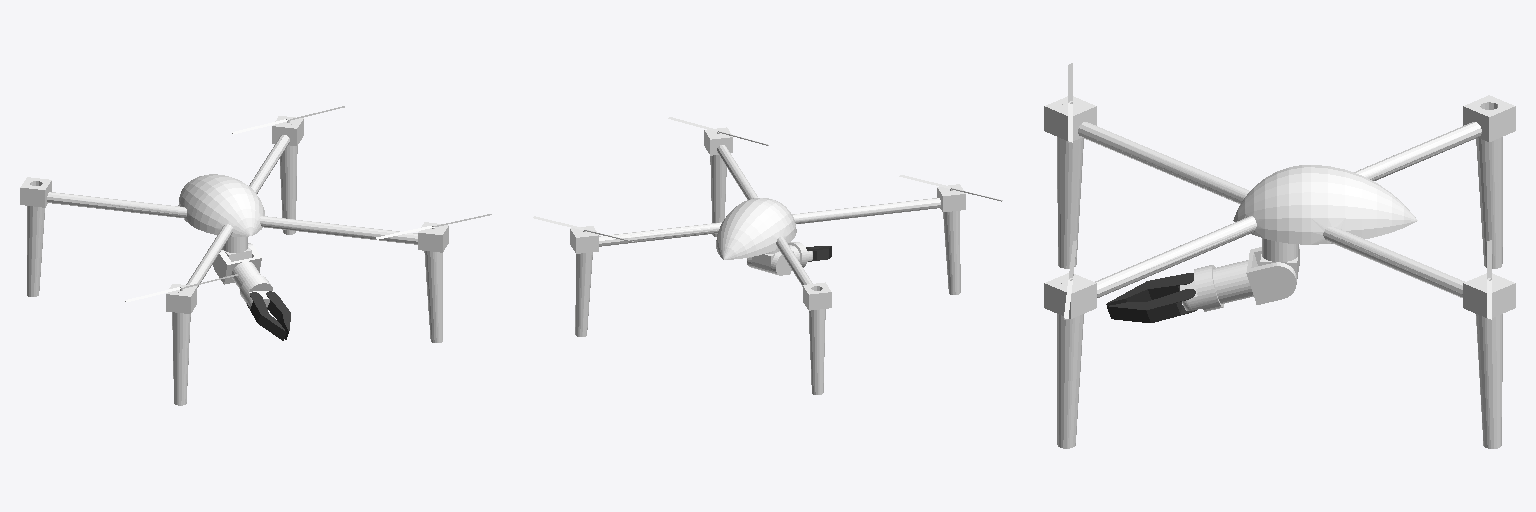
The robot description file, URDF, robot "build_quad_bot":
<?xml version="1.0" encoding="utf-8"?>
<!-- This URDF was automatically created by SolidWorks to URDF Exporter! Originally created by [author] ([email redacted]) 
     Commit Version: 1.6.0-1-g15f4949  Build Version: 1.6.7594.29634
     For more information, please see http://wiki.ros.org/sw_urdf_exporter -->
<robot
  name="build_quad_bot">
  <link name="dummy_link"></link>
    <joint
      name="dummy_joint"
      type="fixed">
      <origin
        xyz="0.0876850301013811 0.140930562484149 0.183057667225338"
        rpy="0 0 0" />
      <parent
        link="dummy_link" />
      <child
        link="chassis" />
    </joint>
  <link
    name="chassis">
    <inertial>
      <origin
        xyz="0.0876850301013811 0.140930562484149 0.183057667225338"
        rpy="0 0 0" />
      <mass
        value="0.173805362488558" />
      <inertia
        ixx="0.00106921691811417"
        ixy="-1.35887791349452E-09"
        ixz="-1.52269854390182E-09"
        iyy="0.00192269791562951"
        iyz="2.09539461739173E-05"
        izz="0.00102907706280709" />
    </inertial>
    <visual>
      <origin
        xyz="0 0 0"
        rpy="0 0 0" />
      <geometry>
        <mesh
          filename="package://build_quad_bot/meshes/chassis.STL" />
      </geometry>
      <material
        name="">
        <color
          rgba="1 1 1 1" />
      </material>
    </visual>
    <collision>
      <origin
        xyz="0 0 0"
        rpy="0 0 0" />
      <geometry>
        <mesh
          filename="package://build_quad_bot/meshes/chassis.STL" />
      </geometry>
    </collision>
  </link>
  <link
    name="front_right_rotor">
    <inertial>
      <origin
        xyz="-1.25975532783151E-09 0.00758907041283063 -1.43444806033344E-09"
        rpy="0 0 0" />
      <mass
        value="0.00164003513463875" />
      <inertia
        ixx="5.40989448385698E-08"
        ixy="1.62773458690548E-14"
        ixz="-1.39327498484125E-09"
        iyy="1.34862675290348E-07"
        iyz="1.20433157779553E-14"
        izz="1.65487904386226E-07" />
    </inertial>
    <visual>
      <origin
        xyz="0 0 0"
        rpy="0 0 0" />
      <geometry>
        <mesh
          filename="package://build_quad_bot/meshes/front_right_rotor.STL" />
      </geometry>
      <material
        name="">
        <color
          rgba="1 1 1 0.32" />
      </material>
    </visual>
    <collision>
      <origin
        xyz="0 0 0"
        rpy="0 0 0" />
      <geometry>
        <mesh
          filename="package://build_quad_bot/meshes/front_right_rotor.STL" />
      </geometry>
    </collision>
  </link>
  <joint
    name="front_right_rotor_joint"
    type="continuous">
    <origin
      xyz="-0.025452 -0.30639 0.14234"
      rpy="1.5708 0 0" />
    <parent
      link="chassis" />
    <child
      link="front_right_rotor" />
    <axis
      xyz="0 1 0" />
    <limit
      effort="1"
      velocity="1000000" />
  </joint>
  <link
    name="front_left_rotor">
    <inertial>
      <origin
        xyz="-1.25975610498763E-09 0.00758907041283038 -1.43444800482229E-09"
        rpy="0 0 0" />
      <mass
        value="0.00164003513463868" />
      <inertia
        ixx="5.40989448385666E-08"
        ixy="1.62773563473984E-14"
        ixz="-1.39327498484251E-09"
        iyy="1.34862675290317E-07"
        iyz="1.20433153891088E-14"
        izz="1.65487904386192E-07" />
    </inertial>
    <visual>
      <origin
        xyz="0 0 0"
        rpy="0 0 0" />
      <geometry>
        <mesh
          filename="package://build_quad_bot/meshes/front_left_rotor.STL" />
      </geometry>
      <material
        name="">
        <color
          rgba="1 1 1 0.32" />
      </material>
    </visual>
    <collision>
      <origin
        xyz="0 0 0"
        rpy="0 0 0" />
      <geometry>
        <mesh
          filename="package://build_quad_bot/meshes/front_left_rotor.STL" />
      </geometry>
    </collision>
  </link>
  <joint
    name="front_left_rotor_joint"
    type="continuous">
    <origin
      xyz="0.20082 -0.30639 0.14234"
      rpy="1.5708 0 -0.049308" />
    <parent
      link="chassis" />
    <child
      link="front_left_rotor" />
    <axis
      xyz="0 1 0" />
    <limit
      effort="1"
      velocity="1000000" />
  </joint>
  <link
    name="rear_left_rotor">
    <inertial>
      <origin
        xyz="-1.25975604947648E-09 0.00758907041283044 -1.43444803257786E-09"
        rpy="0 0 0" />
      <mass
        value="0.0016400351346387" />
      <inertia
        ixx="5.40989448385674E-08"
        ixy="1.62773550818133E-14"
        ixz="-1.39327498484219E-09"
        iyy="1.34862675290325E-07"
        iyz="1.20433154334498E-14"
        izz="1.65487904386201E-07" />
    </inertial>
    <visual>
      <origin
        xyz="0 0 0"
        rpy="0 0 0" />
      <geometry>
        <mesh
          filename="package://build_quad_bot/meshes/rear_left_rotor.STL" />
      </geometry>
      <material
        name="">
        <color
          rgba="1 1 1 0.32" />
      </material>
    </visual>
    <collision>
      <origin
        xyz="0 0 0"
        rpy="0 0 0" />
      <geometry>
        <mesh
          filename="package://build_quad_bot/meshes/rear_left_rotor.STL" />
      </geometry>
    </collision>
  </link>
  <joint
    name="rear_left_rotor_joint"
    type="continuous">
    <origin
      xyz="0.20082 -0.080116 0.14234"
      rpy="1.5708 0 0" />
    <parent
      link="chassis" />
    <child
      link="rear_left_rotor" />
    <axis
      xyz="0 1 0" />
    <limit
      effort="1"
      velocity="1000000" />
  </joint>
  <link
    name="rear_right_rotor">
    <inertial>
      <origin
        xyz="-1.25975594886252E-09 0.00758907041283052 -1.43444803257786E-09"
        rpy="0 0 0" />
      <mass
        value="0.00164003513463871" />
      <inertia
        ixx="5.40989448385681E-08"
        ixy="1.62773533793576E-14"
        ixz="-1.39327498484203E-09"
        iyy="1.34862675290331E-07"
        iyz="1.20433154909612E-14"
        izz="1.65487904386207E-07" />
    </inertial>
    <visual>
      <origin
        xyz="0 0 0"
        rpy="0 0 0" />
      <geometry>
        <mesh
          filename="package://build_quad_bot/meshes/rear_right_rotor.STL" />
      </geometry>
      <material
        name="">
        <color
          rgba="1 1 1 0.32" />
      </material>
    </visual>
    <collision>
      <origin
        xyz="0 0 0"
        rpy="0 0 0" />
      <geometry>
        <mesh
          filename="package://build_quad_bot/meshes/rear_right_rotor.STL" />
      </geometry>
    </collision>
  </link>
  <joint
    name="rear_right_rotor_joint"
    type="continuous">
    <origin
      xyz="-0.025452 -0.080116 0.14234"
      rpy="1.5708 0 0" />
    <parent
      link="chassis" />
    <child
      link="rear_right_rotor" />
    <axis
      xyz="0 1 0" />
    <limit
      effort="1"
      velocity="1000000" />
  </joint>
  <link
    name="arm_link_1">
    <inertial>
      <origin
        xyz="-6.96664947952286E-15 0.0268207413750809 -3.26717819465472E-11"
        rpy="0 0 0" />
      <mass
        value="0.016320901770503" />
      <inertia
        ixx="3.85917948282325E-06"
        ixy="-6.63463056448443E-19"
        ixz="-7.59931755194753E-17"
        iyy="9.82136206172885E-07"
        iyz="-8.56722189368362E-15"
        izz="3.84919336414577E-06" />
    </inertial>
    <visual>
      <origin
        xyz="0 0 0"
        rpy="0 0 0" />
      <geometry>
        <mesh
          filename="package://build_quad_bot/meshes/arm_link_1.STL" />
      </geometry>
      <material
        name="">
        <color
          rgba="1 1 1 1" />
      </material>
    </visual>
    <collision>
      <origin
        xyz="0 0 0"
        rpy="0 0 0" />
      <geometry>
        <mesh
          filename="package://build_quad_bot/meshes/arm_link_1.STL" />
      </geometry>
    </collision>
  </link>
  <joint
    name="arm_joint_1"
    type="revolute">
    <origin
      xyz="0.087685 -0.19325 0.10169"
      rpy="1.5708 0 -0.067967" />
    <parent
      link="chassis" />
    <child
      link="arm_link_1" />
    <axis
      xyz="0 1 0" />
    <limit
      lower="-1"
      upper="1"
      effort="1"
      velocity="10" />
  </joint>
  <link
    name="arm_link_2">
    <inertial>
      <origin
        xyz="2.62121047089892E-10 0.0171389611821341 -1.13826142955631E-10"
        rpy="0 0 0" />
      <mass
        value="0.0164917144290169" />
      <inertia
        ixx="1.3241589794406E-06"
        ixy="3.70791524779322E-16"
        ixz="-1.57164316385075E-21"
        iyy="1.488681538395E-06"
        iyz="1.12267046495263E-15"
        izz="1.99502964721743E-06" />
    </inertial>
    <visual>
      <origin
        xyz="0 0 0"
        rpy="0 0 0" />
      <geometry>
        <mesh
          filename="package://build_quad_bot/meshes/arm_link_2.STL" />
      </geometry>
      <material
        name="">
        <color
          rgba="1 1 1 0.32" />
      </material>
    </visual>
    <collision>
      <origin
        xyz="0 0 0"
        rpy="0 0 0" />
      <geometry>
        <mesh
          filename="package://build_quad_bot/meshes/arm_link_2.STL" />
      </geometry>
    </collision>
  </link>
  <joint
    name="arm_joint_2"
    type="revolute">
    <origin
      xyz="0 0.01 0"
      rpy="1.8591 0 0" />
    <parent
      link="arm_link_1" />
    <child
      link="arm_link_2" />
    <axis
      xyz="1 0 0" />
    <limit
      lower="-1"
      upper="1"
      effort="1"
      velocity="10" />
  </joint>
  <link
    name="arm_link_3">
    <inertial>
      <origin
        xyz="-1.43475342717636E-10 4.2751363560356E-10 -0.00589223823493104"
        rpy="0 0 0" />
      <mass
        value="0.00431995775425361" />
      <inertia
        ixx="2.56959987327941E-07"
        ixy="-5.88728681478884E-15"
        ixz="-7.34693931103341E-15"
        iyy="3.09184579804664E-07"
        iyz="2.80460988043155E-14"
        izz="3.32305583802294E-07" />
    </inertial>
    <visual>
      <origin
        xyz="0 0 0"
        rpy="0 0 0" />
      <geometry>
        <mesh
          filename="package://build_quad_bot/meshes/arm_link_3.STL" />
      </geometry>
      <material
        name="">
        <color
          rgba="1 1 1 0.32" />
      </material>
    </visual>
    <collision>
      <origin
        xyz="0 0 0"
        rpy="0 0 0" />
      <geometry>
        <mesh
          filename="package://build_quad_bot/meshes/arm_link_3.STL" />
      </geometry>
    </collision>
  </link>
  <joint
    name="arm_joint_3"
    type="revolute">
    <origin
      xyz="0 0.037926 0"
      rpy="-1.5708 0.18835 -3.1416" />
    <parent
      link="arm_link_2" />
    <child
      link="arm_link_3" />
    <axis
      xyz="0 0 1" />
    <limit
      lower="-10000"
      upper="10000"
      effort="1"
      velocity="10" />
  </joint>
  <link
    name="left_finger">
    <inertial>
      <origin
        xyz="0.00161872235886462 0.0187141743932983 -1.02999999956888E-06"
        rpy="0 0 0" />
      <mass
        value="0.00261369562305156" />
      <inertia
        ixx="3.64435595797184E-07"
        ixy="8.26652357401017E-09"
        ixz="5.85643873687544E-22"
        iyy="3.68591080594805E-08"
        iyz="-1.21595550045295E-22"
        izz="3.64980509944129E-07" />
    </inertial>
    <visual>
      <origin
        xyz="0 0 0"
        rpy="0 0 0" />
      <geometry>
        <mesh
          filename="package://build_quad_bot/meshes/left_finger.STL" />
      </geometry>
      <material
        name="">
        <color
          rgba="0.298039215686275 0.298039215686275 0.298039215686275 1" />
      </material>
    </visual>
    <collision>
      <origin
        xyz="0 0 0"
        rpy="0 0 0" />
      <geometry>
        <mesh
          filename="package://build_quad_bot/meshes/left_finger.STL" />
      </geometry>
    </collision>
  </link>
  <joint
    name="left_finger_joint"
    type="revolute">
    <origin
      xyz="-0.0073611 0 -0.013203"
      rpy="-1.5708 0.087153 3.1416" />
    <parent
      link="arm_link_3" />
    <child
      link="left_finger" />
    <axis
      xyz="0 0 1" />
    <limit
      lower="-1"
      upper="1"
      effort="1"
      velocity="10" />
  </joint>
  <link
    name="right_finger">
    <inertial>
      <origin
        xyz="0.0016187 0.018714 -1.03E-06"
        rpy="0 0 0" />
      <mass
        value="0.0026137" />
      <inertia
        ixx="3.6444E-07"
        ixy="8.2665E-09"
        ixz="4.4068E-22"
        iyy="3.6859E-08"
        iyz="-9.4299E-23"
        izz="3.6498E-07" />
    </inertial>
    <visual>
      <origin
        xyz="0 0 0"
        rpy="0 0 0" />
      <geometry>
        <mesh
          filename="package://build_quad_bot/meshes/right_finger.STL" />
      </geometry>
      <material
        name="">
        <color
          rgba="0.29804 0.29804 0.29804 1" />
      </material>
    </visual>
    <collision>
      <origin
        xyz="0 0 0"
        rpy="0 0 0" />
      <geometry>
        <mesh
          filename="package://build_quad_bot/meshes/right_finger.STL" />
      </geometry>
    </collision>
  </link>
  <joint
    name="right_finger_joint"
    type="revolute">
    <origin
      xyz="0.0073611 0 -0.013203"
      rpy="-1.5708 0.048185 0" />
    <parent
      link="arm_link_3" />
    <child
      link="right_finger" />
    <axis
      xyz="0 0 1" />
    <limit
      lower="-1"
      upper="1"
      effort="1"
      velocity="10" />
    <mimic
      joint="left_finger_joint"
      multiplier="-1"
      offset="0" />
  </joint>

  <transmission name="front_right_prop">
    <type>transmission_interface/SimpleTransmission</type>
      <joint name="front_right_rotor_joint">
    <hardwareInterface>hardware_interface/VelocityJointInterface</hardwareInterface>
      </joint>
    <actuator name="front_right_motor">
      <mechanicalReduction>20</mechanicalReduction>
      <!-- <hardwareInterface>hardware_interface/VelocityJointInterface</hardwareInterface> -->
    </actuator>
  </transmission>

  <transmission name="front_left_prop">
    <type>transmission_interface/SimpleTransmission</type>
      <joint name="front_left_rotor_joint">
    <hardwareInterface>hardware_interface/VelocityJointInterface</hardwareInterface>
      </joint>
    <actuator name="front_left_motor">
      <mechanicalReduction>20</mechanicalReduction>
      <!-- <hardwareInterface>hardware_interface/VelocityJointInterface</hardwareInterface> -->
    </actuator>
  </transmission>

  <transmission name="rear_right_prop">
    <type>transmission_interface/SimpleTransmission</type>
      <joint name="rear_right_rotor_joint">
    <hardwareInterface>hardware_interface/VelocityJointInterface</hardwareInterface>
      </joint>
    <actuator name="rear_right_motor">
      <mechanicalReduction>20</mechanicalReduction>
      <!-- <hardwareInterface>hardware_interface/VelocityJointInterface</hardwareInterface> -->
    </actuator>
  </transmission>

  <transmission name="rear_left_prop">
    <type>transmission_interface/SimpleTransmission</type>
      <joint name="rear_left_rotor_joint">
    <hardwareInterface>hardware_interface/VelocityJointInterface</hardwareInterface>
      </joint>
    <actuator name="rear_left_motor">
      <mechanicalReduction>20</mechanicalReduction>
      <!-- <hardwareInterface>hardware_interface/VelocityJointInterface</hardwareInterface> -->
    </actuator>
  </transmission>

  <transmission name="arm_body_trans">
    <type>transmission_interface/SimpleTransmission</type>
      <joint name="arm_joint_1">
    <hardwareInterface>hardware_interface/VelocityJointInterface</hardwareInterface>
      </joint>
    <actuator name="arm_body_servo">
      <mechanicalReduction>20</mechanicalReduction>
    </actuator>

  </transmission>
   <transmission name="arm_mid_trans">
    <type>transmission_interface/SimpleTransmission</type>
      <joint name="arm_joint_2">
    <hardwareInterface>hardware_interface/VelocityJointInterface</hardwareInterface>
      </joint>
    <actuator name="arm_body_servo">
      <mechanicalReduction>20</mechanicalReduction>
    </actuator>
  </transmission>

   <transmission name="arm_end_trans">
    <type>transmission_interface/SimpleTransmission</type>
      <joint name="arm_joint_3">
    <hardwareInterface>hardware_interface/VelocityJointInterface</hardwareInterface>
      </joint>
    <actuator name="arm_end_servo">
      <mechanicalReduction>20</mechanicalReduction>
    </actuator>
  </transmission>

  <transmission name="right_finger_trans">
    <type>transmission_interface/SimpleTransmission</type>
      <joint name="right_finger_joint">
    <hardwareInterface>hardware_interface/VelocityJointInterface</hardwareInterface>
      </joint>
    <actuator name="right_finger_servo">
      <mechanicalReduction>20</mechanicalReduction>
    </actuator>
  </transmission>

  <transmission name="left_finger_trans">
    <type>transmission_interface/SimpleTransmission</type>
      <joint name="left_finger_joint">
    <hardwareInterface>hardware_interface/VelocityJointInterface</hardwareInterface>
      </joint>
    <actuator name="left_finger_servo">
      <mechanicalReduction>20</mechanicalReduction>
    </actuator>
  </transmission>
</robot>

--- What the picture shows (computed from the rendered views, not written in the file) ---
The picture shows the robot from 3 angles, left to right: view 1: azimuth 30°, elevation 25°; view 2: azimuth 150°, elevation 25°; view 3: azimuth 270°, elevation 25°; orthographic projection.
Model build_quad_bot with 11 links and 10 joints (5 revolute, 4 continuous, 1 fixed), rooted at dummy_link, posed all joints at 0.
Visible links, largest first — view 1: chassis, arm_link_2, right_finger, arm_link_3, left_finger, arm_link_1; view 2: chassis; view 3: chassis, arm_link_2, left_finger, right_finger, arm_link_3, arm_link_1.
Link boxes in pixels (x1,y1,x2,y2): chassis: [20, 116, 448, 405]; arm_link_2: [213, 243, 261, 288]; right_finger: [247, 292, 286, 340]; arm_link_3: [240, 275, 273, 306]; left_finger: [266, 291, 290, 339]; arm_link_1: [222, 237, 251, 261]; chassis: [570, 127, 965, 394]; chassis: [1044, 95, 1515, 448]; arm_link_2: [1213, 247, 1296, 304]; left_finger: [1107, 289, 1196, 322]; right_finger: [1106, 273, 1193, 305]; arm_link_3: [1180, 265, 1223, 311]; arm_link_1: [1260, 238, 1299, 278].
Size in the robot's own frame: 0.3263 by 0.2546 by 0.1103 metres.
Meshes: 10 distinct files referenced, 9 mesh visuals loaded (9 binary STL); not drawn: 1 (reference not matched to a file when rendering).
